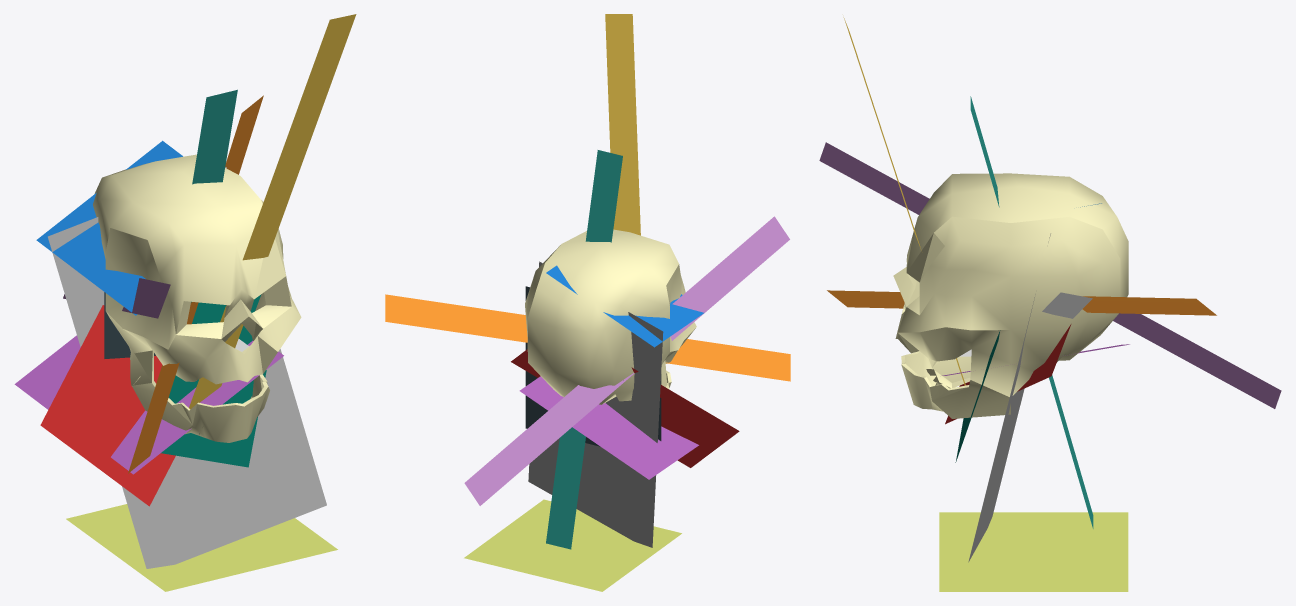
File: skull1.glb
The picture shows the model from 3 angles, left to right: view 1: azimuth 30°, elevation 25°; view 2: azimuth 150°, elevation 25°; view 3: azimuth 270°, elevation 25°; orthographic projection. The views are drawn at different scales.
Visible parts, largest first — view 1: skull1, Plane.023, Plane.076, Plane.056, Plane.009, Plane.063, Plane.065, Plane.072, Plane.037, Plane, Plane.046, Plane.014; view 2: skull1, Plane.023, Plane.056, Plane.046, Plane.037, Plane.009, Plane, Plane.063, Plane.076, Plane.065, Plane.014; view 3: skull1, Plane.056, Plane.046, Plane.037, Plane.023, Plane, Plane.029, Plane.076.
Boxes of the visible parts, x1=… form: skull1: x1=93, y1=154, x2=301, y2=442; Plane.023: x1=48, y1=167, x2=326, y2=568; Plane.076: x1=40, y1=305, x2=175, y2=506; Plane.056: x1=66, y1=504, x2=337, y2=591; Plane.009: x1=189, y1=14, x2=356, y2=409; Plane.063: x1=14, y1=335, x2=283, y2=474; Plane.065: x1=36, y1=140, x2=182, y2=315; Plane.072: x1=161, y1=294, x2=266, y2=467; Plane.037: x1=128, y1=95, x2=263, y2=473; Plane: x1=192, y1=89, x2=237, y2=184; Plane.046: x1=63, y1=278, x2=170, y2=318; Plane.014: x1=104, y1=292, x2=155, y2=358; skull1: x1=525, y1=229, x2=696, y2=404; Plane.023: x1=528, y1=261, x2=663, y2=547; Plane.056: x1=464, y1=499, x2=681, y2=591; Plane.046: x1=464, y1=216, x2=789, y2=505; Plane.037: x1=385, y1=294, x2=790, y2=381; Plane.009: x1=605, y1=14, x2=640, y2=235; Plane: x1=546, y1=150, x2=622, y2=549; Plane.063: x1=519, y1=376, x2=698, y2=479; Plane.076: x1=511, y1=349, x2=739, y2=467; Plane.065: x1=546, y1=265, x2=703, y2=347; Plane.014: x1=525, y1=286, x2=661, y2=446; skull1: x1=893, y1=173, x2=1128, y2=418; Plane.056: x1=939, y1=512, x2=1128, y2=591; Plane.046: x1=819, y1=142, x2=1281, y2=408; Plane.037: x1=827, y1=290, x2=1216, y2=315; Plane.023: x1=968, y1=233, x2=1050, y2=562; Plane: x1=970, y1=96, x2=1093, y2=528; Plane.029: x1=1042, y1=292, x2=1092, y2=318; Plane.076: x1=945, y1=324, x2=1071, y2=424.
Size of what is drawn, in the model's own units: 10.76 by 18.16 by 13.69.
Materials: 1 (1 with a texture image).
